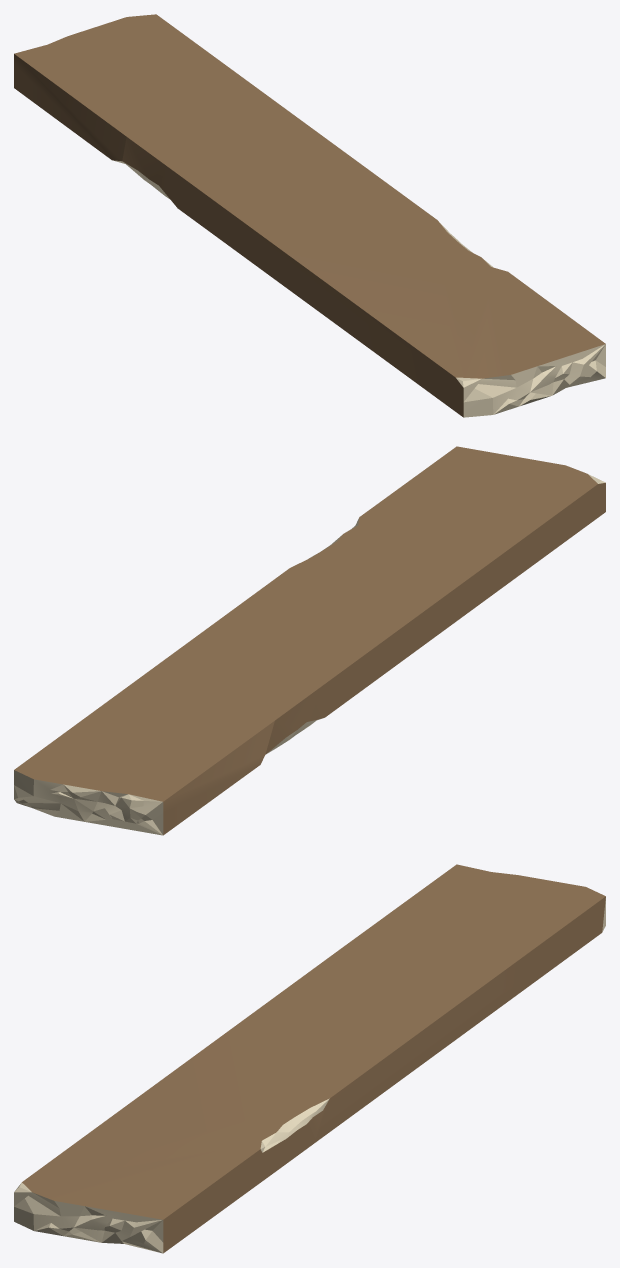
The model's file is Plank5.fbx.
The picture shows the model from 3 angles, top to bottom: view 1: azimuth 30°, elevation 25°; view 2: azimuth 150°, elevation 25°; view 3: azimuth 330°, elevation 25°; orthographic projection.
Parts seen in each view (by area): view 1: 5; view 2: 5; view 3: 5.
Part boxes in pixels (x1,y1,x2,y2): 5: (14,14,605,417); 5: (14,446,605,835); 5: (14,864,605,1253).
Bounding box in the file's own units: 45 × 10 × 245.
